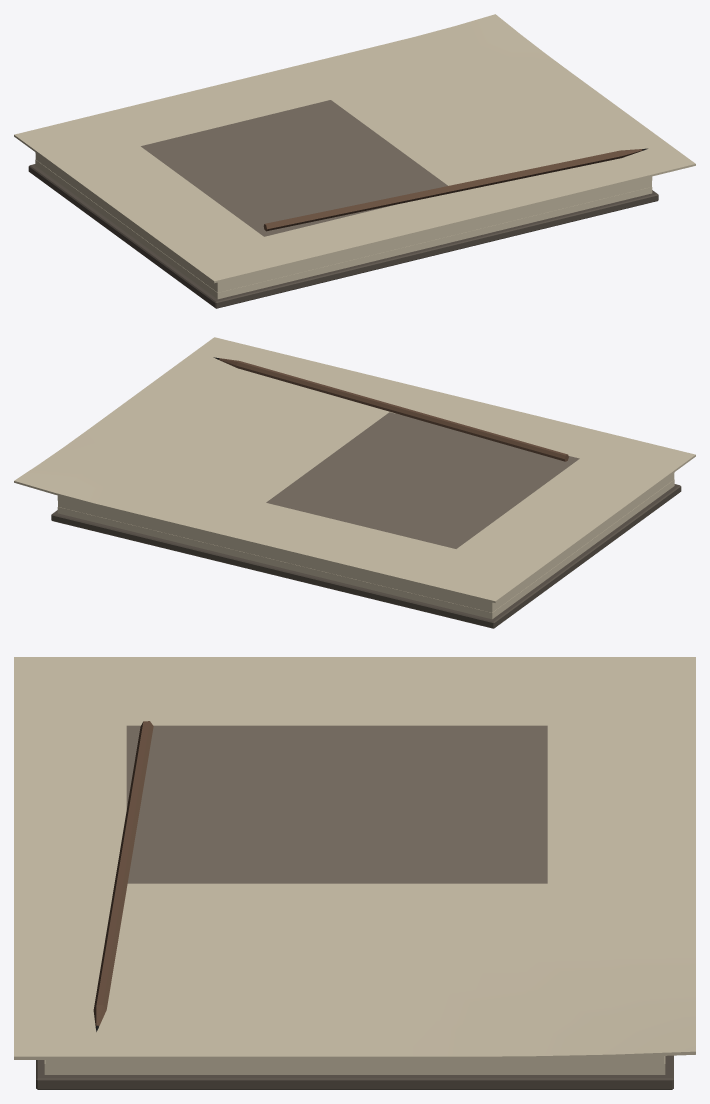
File: main-session-notes-4ece8027d906.glb
3 views of the same model, one above another, from view 1: azimuth 30°, elevation 25°; view 2: azimuth 150°, elevation 25°; view 3: azimuth 270°, elevation 25° (orthographic). The views are drawn at different scales.
Visible parts, largest first — view 1: paper, cover-print, fabric, wood; view 2: paper, cover-print, fabric, wood; view 3: paper, cover-print, fabric, wood.
Boxes of the visible parts, x1,y1,x2,y2 form: paper: (14, 14, 695, 299); cover-print: (141, 100, 447, 236); fabric: (28, 164, 658, 308); wood: (263, 149, 642, 231); paper: (14, 337, 695, 619); cover-print: (266, 412, 579, 548); fabric: (51, 484, 681, 628); wood: (219, 358, 568, 461); paper: (14, 657, 695, 1074); cover-print: (126, 725, 547, 883); fabric: (36, 1055, 673, 1089); wood: (93, 721, 153, 1026).
Bounding box in the file's own units: 0.215 × 0.0175 × 0.155.
